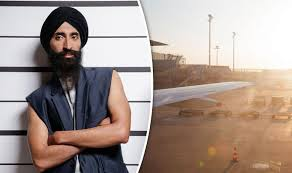helmet: (37, 4, 94, 79)
